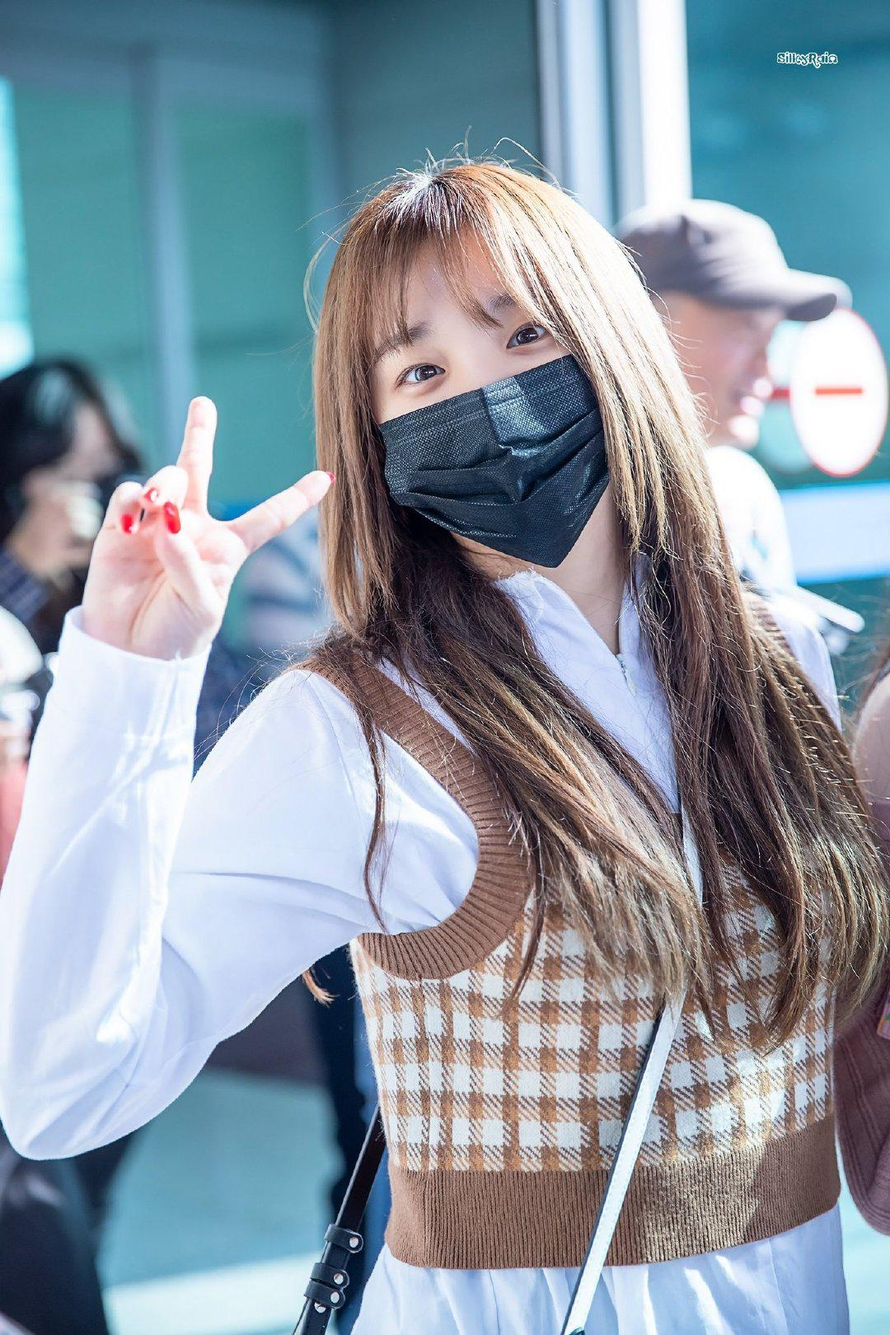NONE: (682, 308, 775, 447)
OK: (374, 269, 610, 568)
